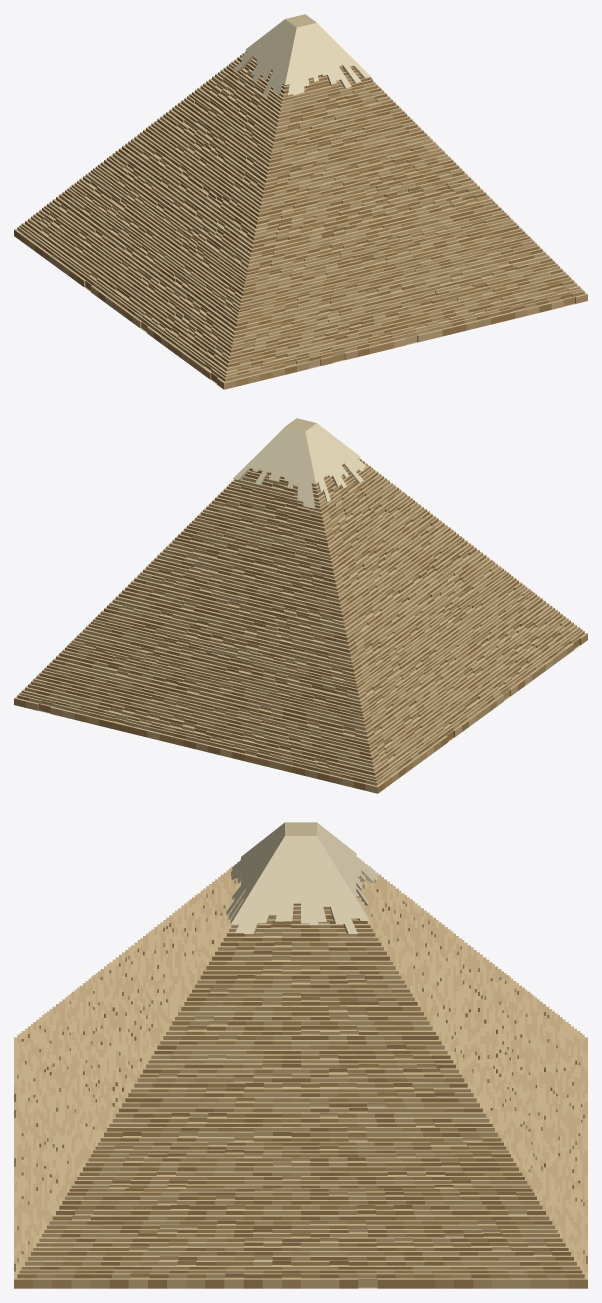
File: piramide-quefren.glb
3 renders of one model, top to bottom at view 1: azimuth 30°, elevation 25°; view 2: azimuth 150°, elevation 25°; view 3: azimuth 270°, elevation 25°, orthographic. The views are drawn at different scales.
Parts seen in each view (by area): view 1: Degraus, Revestimento; view 2: Degraus, Revestimento; view 3: Degraus, Revestimento.
Part boxes in pixels (x1,y1,x2,y2): Degraus: [14, 50, 587, 389]; Revestimento: [234, 14, 372, 96]; Degraus: [14, 458, 587, 793]; Revestimento: [233, 418, 366, 508]; Degraus: [14, 857, 587, 1288]; Revestimento: [226, 822, 377, 933].
Size of the model in its own units: 213 by 138 by 213.
